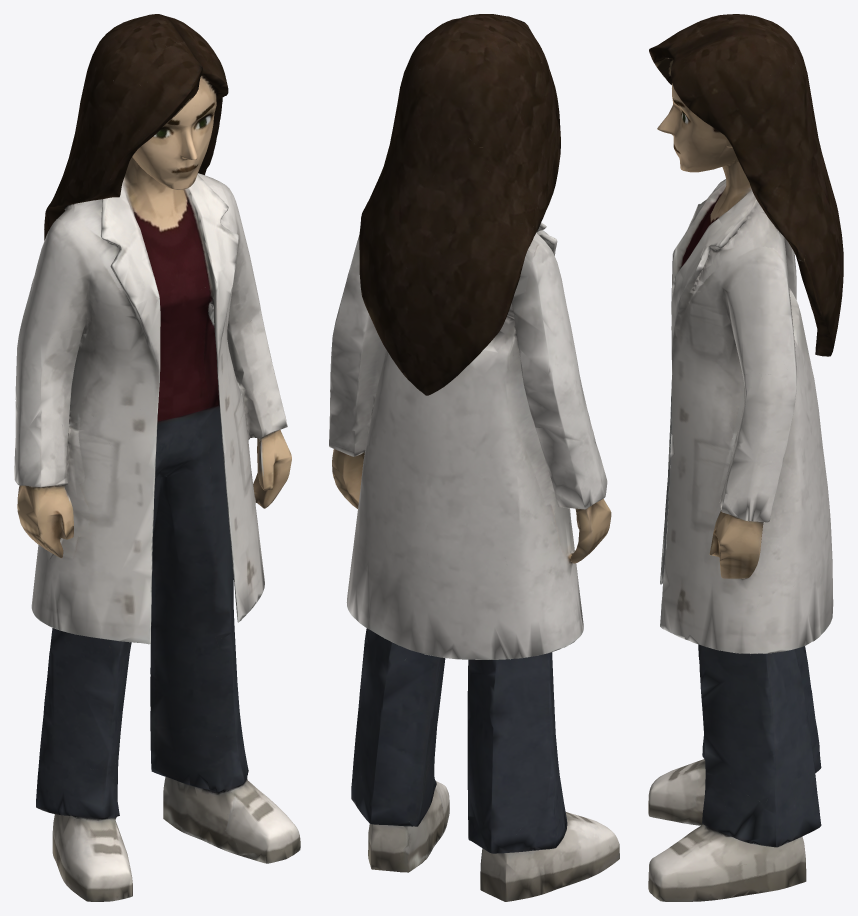
The model's file is dr_mixamo.glb.
3 renders of one model, left to right at view 1: azimuth 30°, elevation 25°; view 2: azimuth 150°, elevation 25°; view 3: azimuth 270°, elevation 25°, orthographic.
Bounding box in the file's own units: 0.6417 × 1.9 × 0.4047.
Materials: 1 (1 with a texture image).
